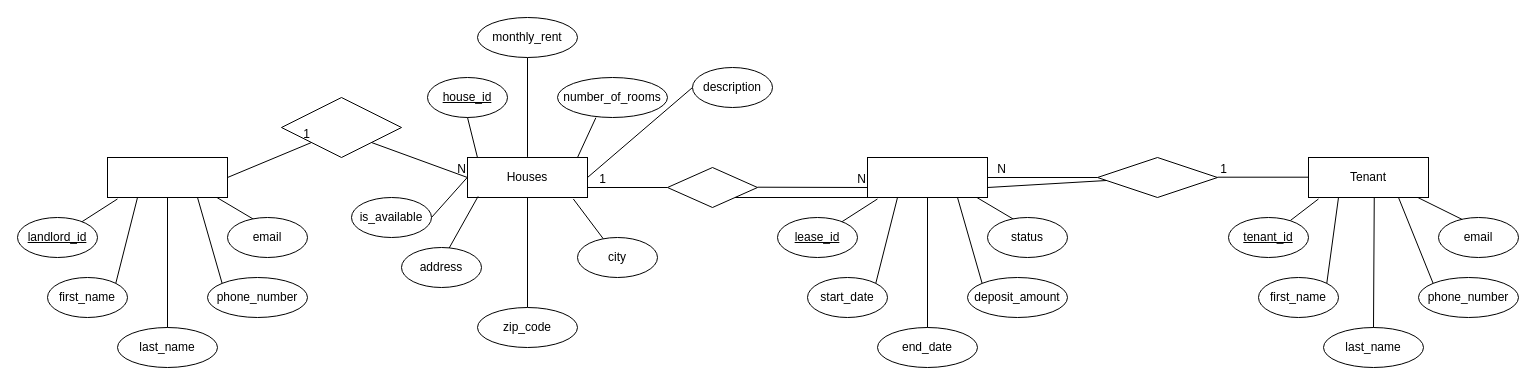
This 1536x385 diagram has some shape labels left out. The box of each missing label's shape, as (x1, y1, x2, y2) in pixels:
Has: (666, 166, 758, 208)
Landlord: (106, 156, 228, 198)
Lease: (866, 156, 988, 198)
Owns: (280, 96, 402, 158)
Signs: (1096, 156, 1218, 198)
